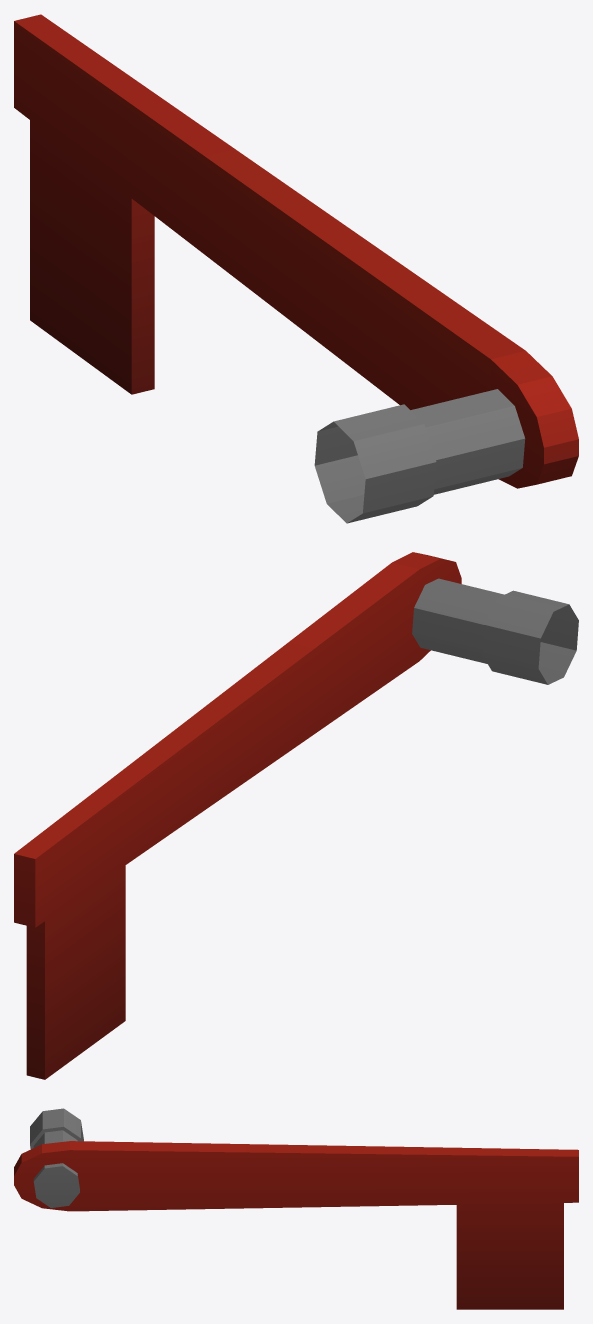
Rendered from Prop_Letterbox_SignalFlag_01.obj.
3 renders of one model, top to bottom at view 1: azimuth 30°, elevation 25°; view 2: azimuth 150°, elevation 25°; view 3: azimuth 270°, elevation 25°, orthographic. The views are drawn at different scales.
Visible parts, largest first — view 1: Prop_Letterbox_SignalFlag_01; view 2: Prop_Letterbox_SignalFlag_01; view 3: Prop_Letterbox_SignalFlag_01.
Boxes of the visible parts, <box> form: Prop_Letterbox_SignalFlag_01: <box>14,14,578,523</box>; Prop_Letterbox_SignalFlag_01: <box>14,552,578,1079</box>; Prop_Letterbox_SignalFlag_01: <box>14,1108,578,1309</box>.
Bounding box in the file's own units: 0.0341 × 0.0471 × 0.15.
1 material, 1 textured.
